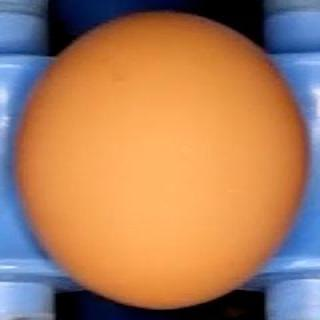Telur: (9, 10, 312, 312)
